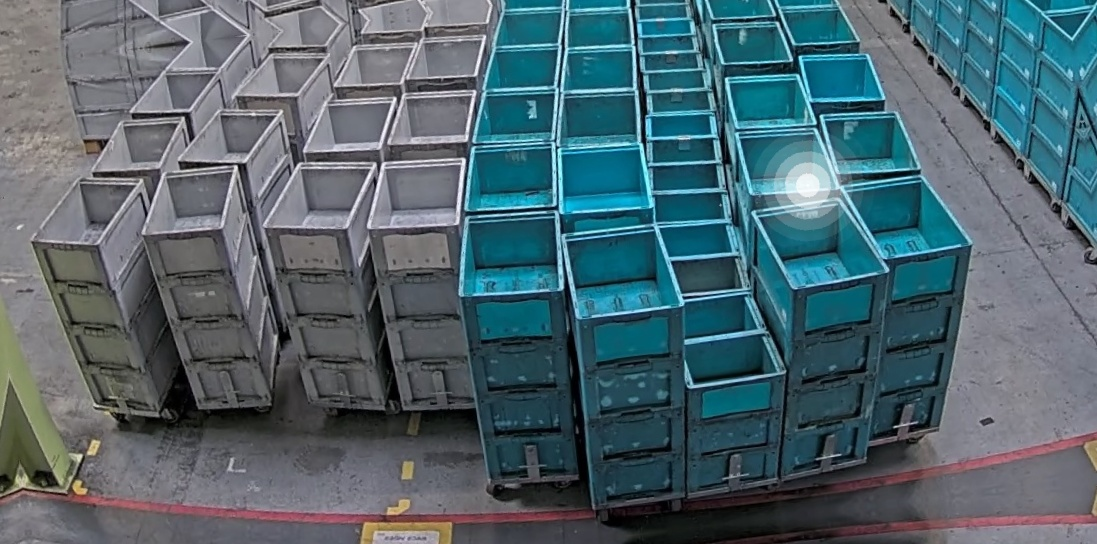4G: (22, 165, 186, 425), (254, 153, 409, 419), (134, 160, 289, 416), (358, 151, 497, 416)
B4: (739, 190, 913, 481), (556, 218, 709, 508), (838, 169, 997, 443), (449, 206, 593, 488)
B8: (661, 286, 801, 495)
